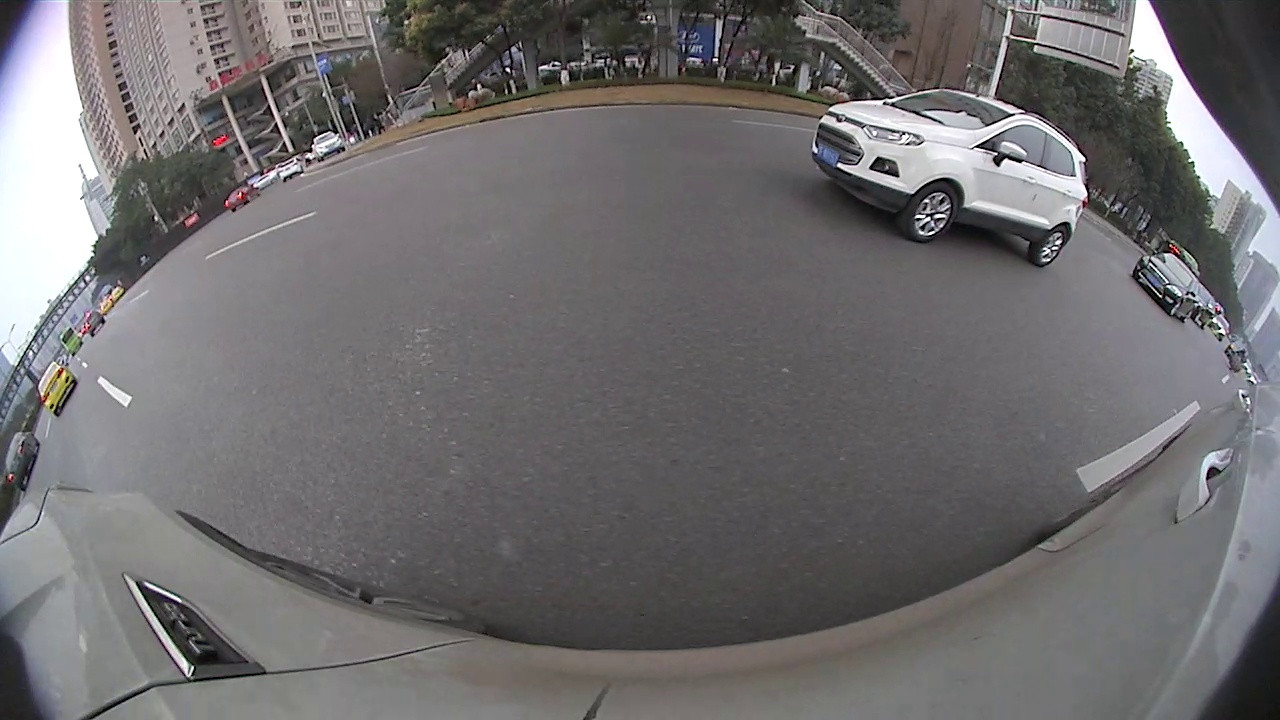car: (812, 87, 1090, 268), (1132, 251, 1200, 321), (4, 429, 42, 493), (38, 359, 79, 416), (1192, 287, 1220, 330)
front: (902, 183, 958, 242)
rear: (1029, 228, 1068, 265)
